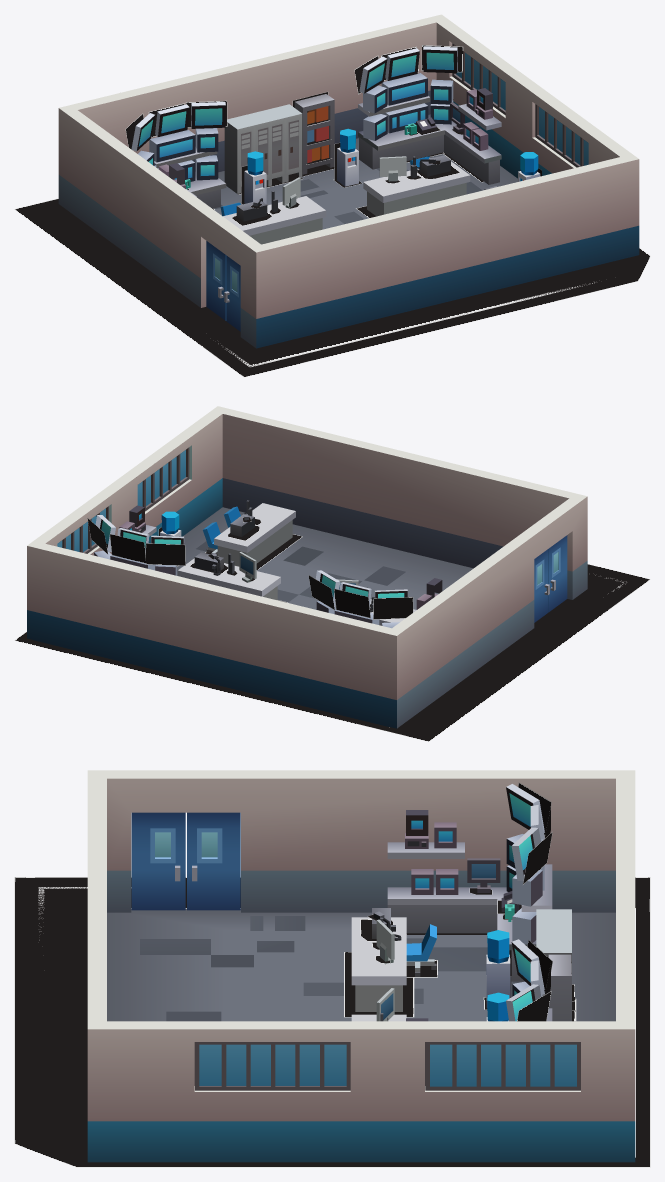
File: camera room.fbx
3 views of the same model, one above another, from view 1: azimuth 30°, elevation 25°; view 2: azimuth 150°, elevation 25°; view 3: azimuth 270°, elevation 25° (orthographic). The views are drawn at different scales.
Visible parts, largest first — view 1: P03_carpentry_walls_int.001, P2_kitchen_walls_shadow.002, P01_quarter_desk.001, P00_quarter_monitoring_table_02.001, P03_carpentry_building_floor, P01_Desk_lvl_01, P01_quarter_monitor_03_off.001, P05_reception_decoration_waterdispenser.001, PE01_quarter_locker_R_lvl_01_02, P01_quarter_monitor_wall.001, P01_quarter_monitor_wall (2).001, P01_quarter_monitor_wall (1).001 (+18 smaller); view 2: P03_carpentry_walls_int.001, P2_kitchen_walls_shadow.002, P03_carpentry_building_floor, P01_quarter_desk.002, P01_quarter_desk.001, P01_quarter_monitor_wall_shadow.005, P01_quarter_monitor_wall_shadow.003, P00_classic_door_1.002, P01_quarter_monitor_wall_shadow.004, P03_carpentry_walls_window_glass.006, P00_classic_door_2.002, P03_carpentry_walls_window (2).003 (+7 smaller); view 3: P03_carpentry_walls_int.001, P03_carpentry_building_floor, P2_kitchen_walls_shadow.002, P03_carpentry_walls_window_glass.003, P03_carpentry_walls_window_glass.004, P00_classic_door_1.002, P00_classic_door_2.002, P00_quarter_monitoring_table_02.001, P01_quarter_desk.001, P03_carpentry_walls_window (1).001, P03_carpentry_walls_window (2).001, P05_reception_decoration_waterdispenser.001 (+18 smaller).
Boxes of the visible parts, x1,y1,x2,y2 form: P03_carpentry_walls_int.001: (58, 14, 639, 348); P2_kitchen_walls_shadow.002: (14, 198, 650, 377); P01_quarter_desk.001: (223, 161, 470, 244); P00_quarter_monitoring_table_02.001: (187, 114, 501, 208); P03_carpentry_building_floor: (214, 138, 517, 229); P01_Desk_lvl_01: (294, 94, 334, 174); P01_quarter_monitor_03_off.001: (149, 73, 427, 162); P05_reception_decoration_waterdispenser.001: (244, 128, 358, 204); PE01_quarter_locker_R_lvl_01_02: (224, 116, 254, 193); P01_quarter_monitor_wall.001: (155, 48, 419, 136); P01_quarter_monitor_wall (2).001: (191, 56, 387, 128); P01_quarter_monitor_wall (1).001: (131, 46, 457, 151); P03_carpentry_walls_int.001: (27, 406, 587, 728); P2_kitchen_walls_shadow.002: (14, 564, 650, 741); P03_carpentry_building_floor: (155, 507, 473, 609); P01_quarter_desk.002: (214, 503, 295, 566); P01_quarter_desk.001: (177, 558, 415, 625); P01_quarter_monitor_wall_shadow.005: (109, 534, 370, 618); P01_quarter_monitor_wall_shadow.003: (145, 543, 334, 610); P00_classic_door_1.002: (548, 535, 567, 612); P01_quarter_monitor_wall_shadow.004: (87, 518, 413, 619); P03_carpentry_walls_window_glass.006: (137, 450, 185, 506); P00_classic_door_2.002: (534, 549, 549, 622); P03_carpentry_walls_window (2).003: (142, 447, 189, 511); P03_carpentry_walls_int.001: (87, 770, 635, 1162); P03_carpentry_building_floor: (107, 908, 615, 1021); P2_kitchen_walls_shadow.002: (14, 877, 650, 1167); P03_carpentry_walls_window_glass.003: (430, 1044, 576, 1086); P03_carpentry_walls_window_glass.004: (199, 1044, 346, 1085); P00_classic_door_1.002: (131, 812, 185, 910); P00_classic_door_2.002: (187, 812, 240, 910); P00_quarter_monitoring_table_02.001: (387, 887, 536, 981); P01_quarter_desk.001: (351, 917, 406, 1021); P03_carpentry_walls_window (1).001: (195, 1042, 350, 1090); P03_carpentry_walls_window (2).001: (425, 1042, 580, 1090); P05_reception_decoration_waterdispenser.001: (486, 930, 510, 1021).
Bounding box in the file's own units: 1252 × 1161 × 294.
Materials: 2 (2 with a texture image).
